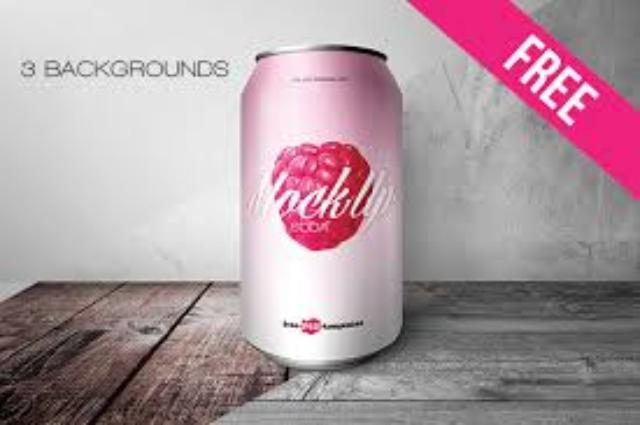metal: (240, 44, 398, 365)
